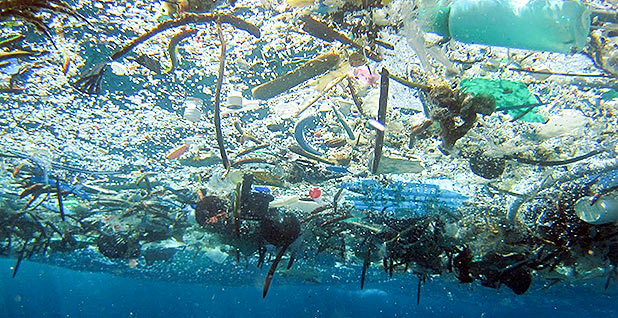litter: (4, 158, 618, 296), (67, 12, 280, 99), (181, 171, 309, 292), (399, 72, 549, 162), (400, 4, 595, 62), (213, 13, 247, 173), (244, 51, 355, 100)
